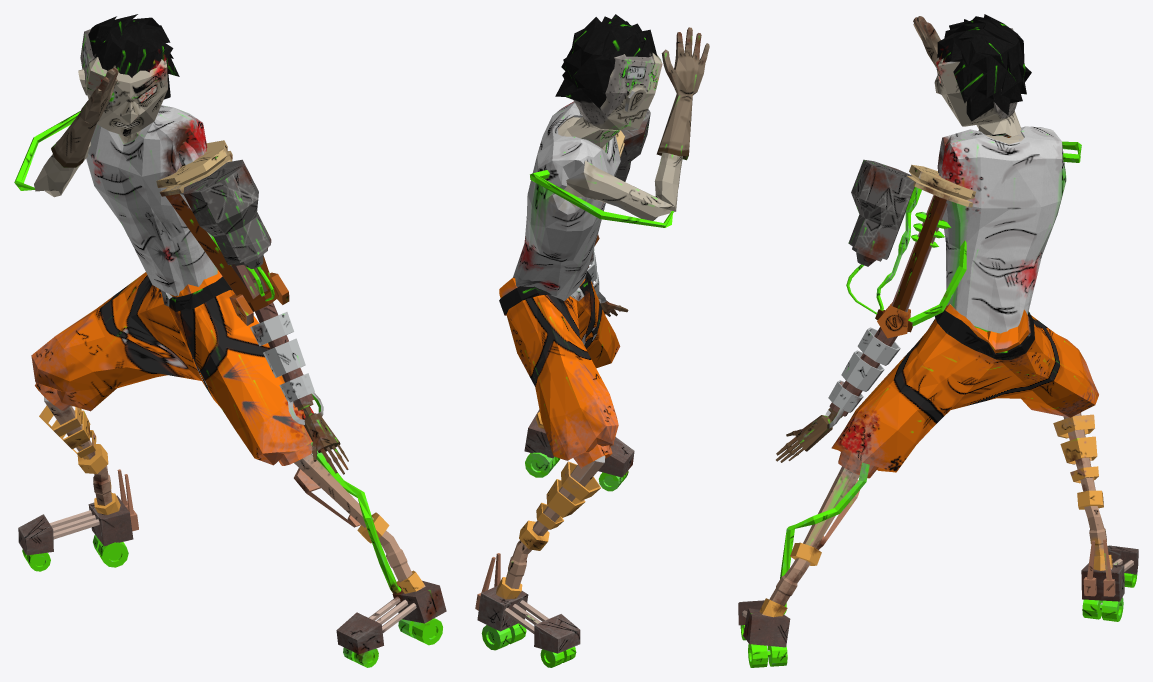
The model's file is CyborgFINALAnimation_000050.obj.
The picture shows the model from 3 angles, left to right: view 1: azimuth 30°, elevation 25°; view 2: azimuth 150°, elevation 25°; view 3: azimuth 270°, elevation 25°; orthographic projection. The views are drawn at different scales.
Visible parts, largest first — view 1: CyborgMesh_Cube.002; view 2: CyborgMesh_Cube.002; view 3: CyborgMesh_Cube.002.
Part boxes in pixels (bbox=[...]): CyborgMesh_Cube.002: bbox=[14, 14, 446, 667]; CyborgMesh_Cube.002: bbox=[475, 14, 709, 667]; CyborgMesh_Cube.002: bbox=[738, 14, 1138, 667].
Bounding box in the file's own units: 4.23 × 8.64 × 5.44.
